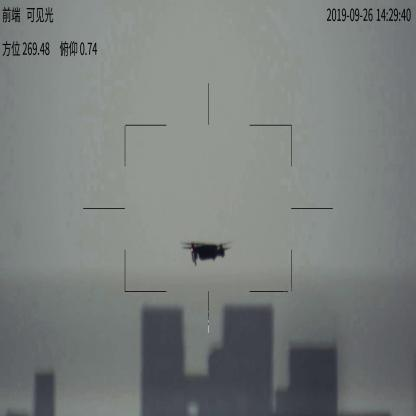uav: (181, 237, 235, 269)
